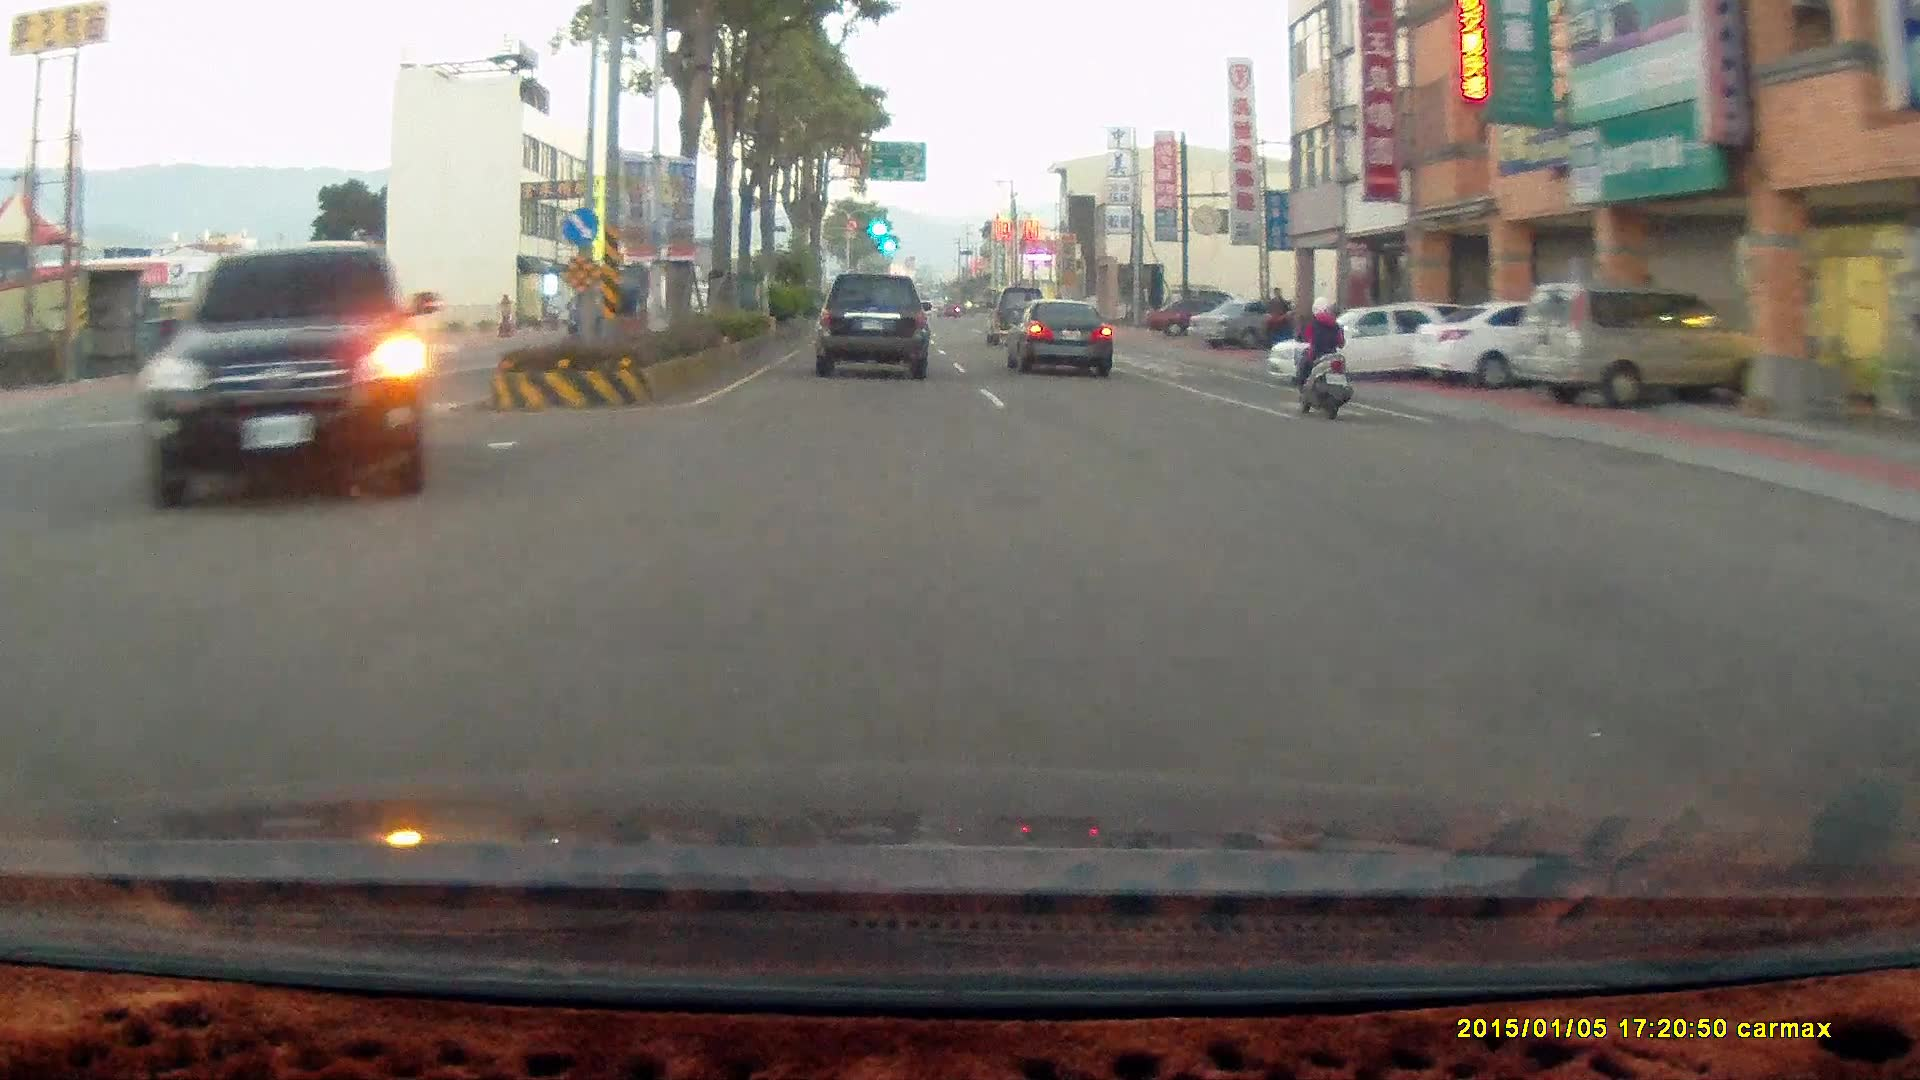pedestrian: (1261, 285, 1291, 359)
rider: (1279, 288, 1364, 428), (1289, 295, 1353, 421)
vehicle: (126, 240, 448, 511), (153, 237, 433, 511), (1509, 281, 1761, 421), (1511, 281, 1769, 410), (1410, 299, 1640, 393), (1407, 297, 1618, 389), (1269, 306, 1484, 394), (1267, 301, 1460, 385), (814, 272, 933, 381), (813, 271, 931, 379), (1007, 300, 1124, 380), (1004, 296, 1110, 377), (1189, 300, 1305, 353), (1188, 299, 1304, 350), (1145, 294, 1246, 338), (983, 284, 1050, 343)
